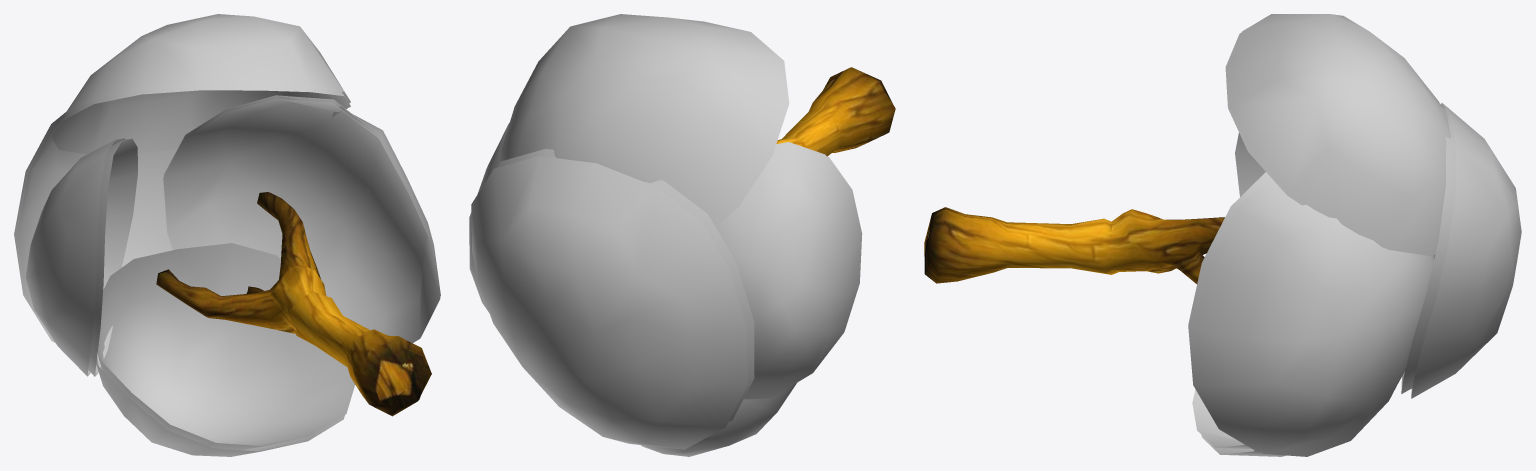
Rendered from ARVORE03.fbx.
The picture shows the model from 3 angles, left to right: view 1: azimuth 30°, elevation 25°; view 2: azimuth 150°, elevation 25°; view 3: azimuth 270°, elevation 25°; orthographic projection. The views are drawn at different scales.
Parts seen in each view (by area): view 1: tree03; view 2: tree03; view 3: tree03.
Boxes of the visible parts, x1=… form: tree03: x1=14, y1=14, x2=440, y2=456; tree03: x1=469, y1=14, x2=895, y2=456; tree03: x1=924, y1=14, x2=1521, y2=456.
Bounding box in the file's own units: 286 × 307 × 409.
